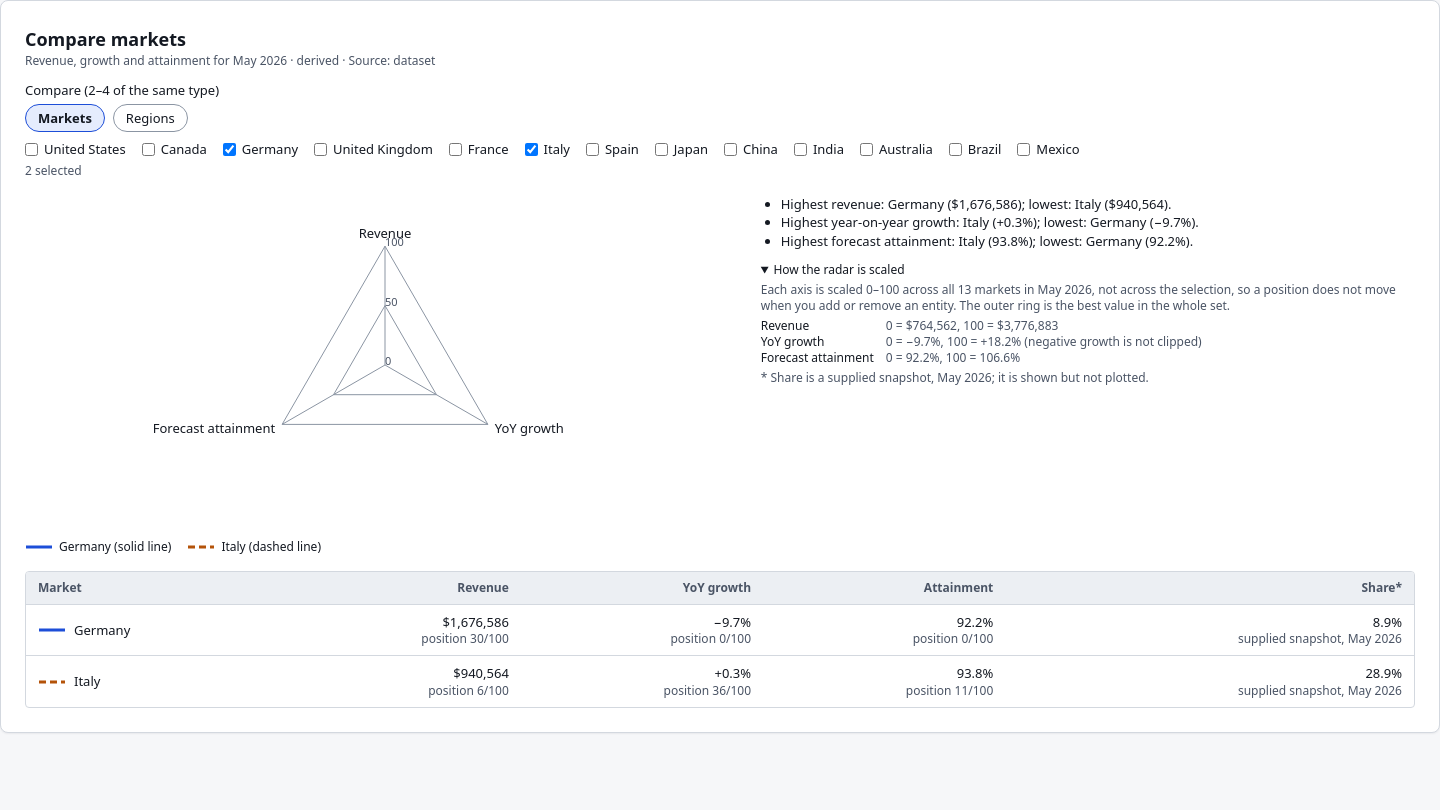
Test: MarketComparison › switching between markets and regions clears the selection (types are never mixed)
Click the radio button labelled "Regions".
click(150, 118)  # box 113,104 -> 188,132
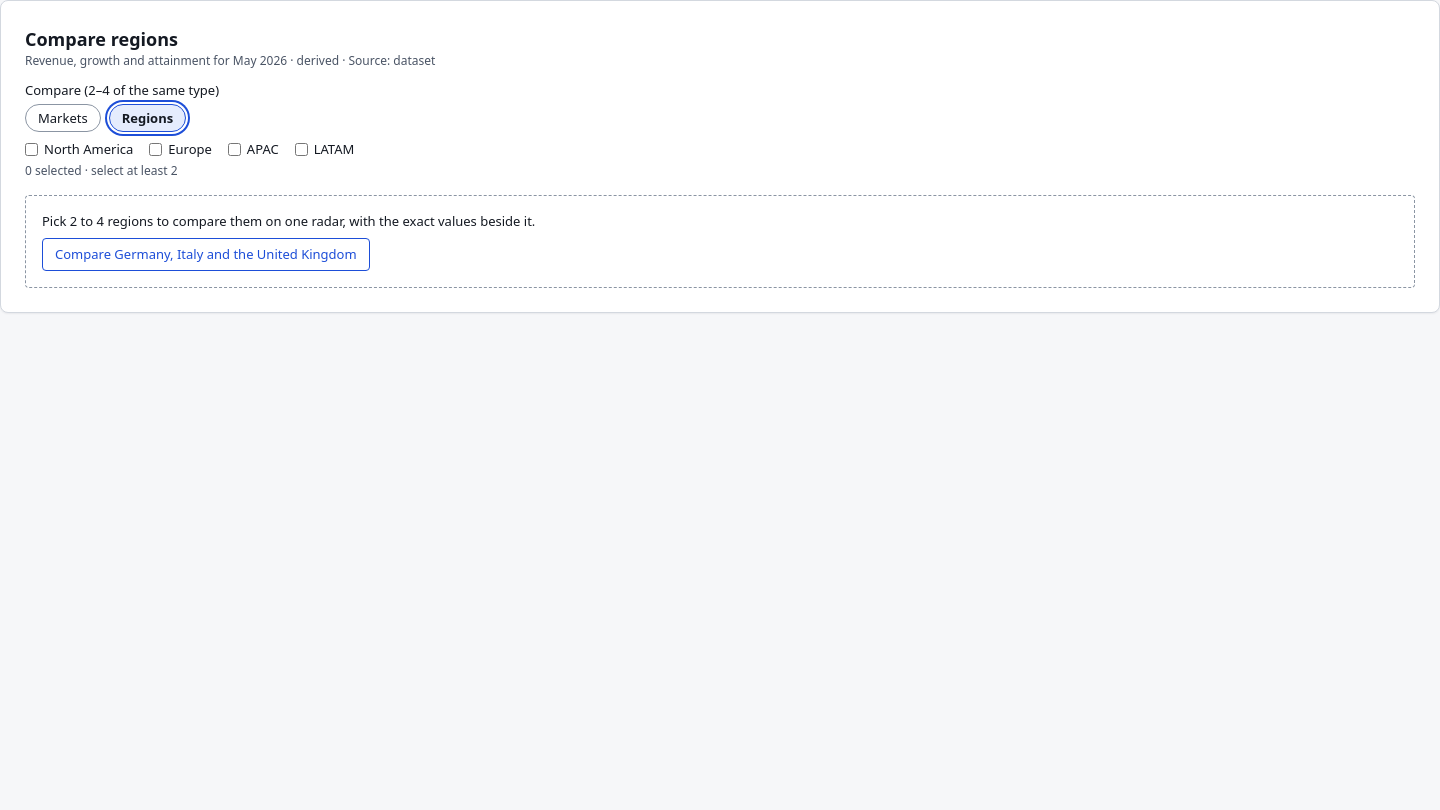
Result: the number of checkboxes is 4 at 25,143 -> 38,156; 149,143 -> 162,156; 228,143 -> 241,156; 295,143 -> 308,156
